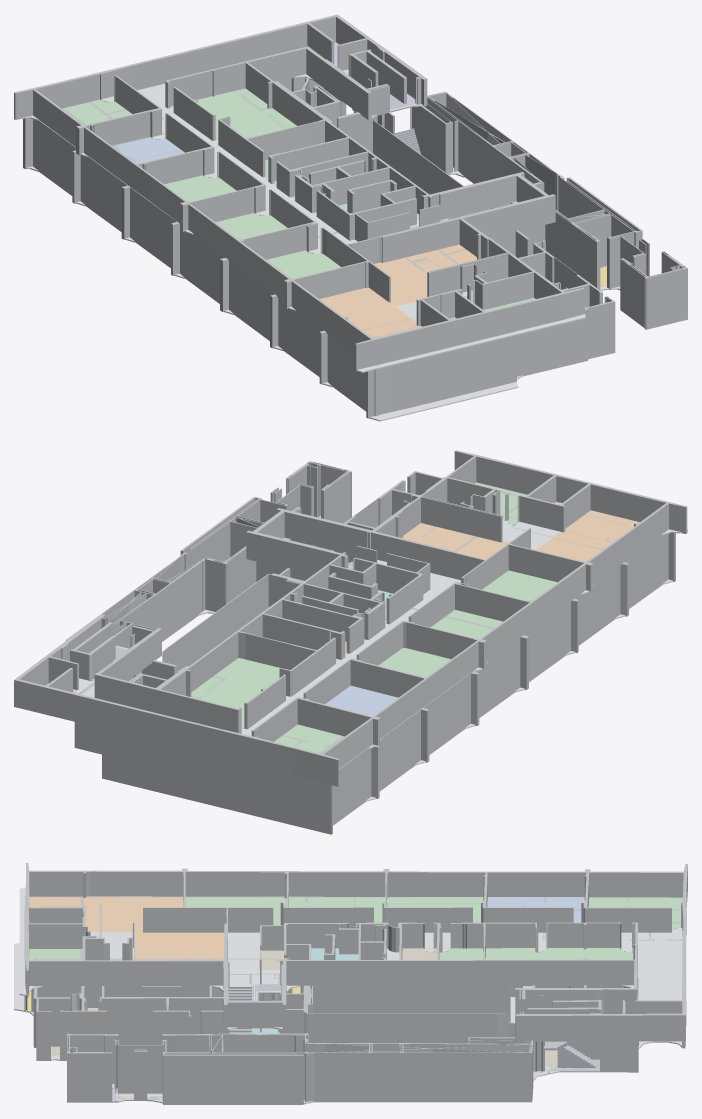
Rendered from BlocoA.glb.
The picture shows the model from 3 angles, top to bottom: view 1: azimuth 30°, elevation 25°; view 2: azimuth 150°, elevation 25°; view 3: azimuth 270°, elevation 25°; orthographic projection. The views are drawn at different scales.
Visible parts, largest first — view 1: A2 — Paredes, A0 — Paredes, A2 — Circulação, A2 — Of. Aprendizagem Montagem, Soldagem e Cravação, A2 — Lab. Desenvolvimento de Sistemas, A2 — Oficina de Baixa e Alta Fusão, A0 — Circulação, A2 — Lab. Manufatura Aditiva, A2 — Lab. Informática 10A, A2 — Lab. Modelagem 3D, A2 — Aulas Gerais 7A, A2 — Lab. Informática 5A (+1 smaller); view 2: A2 — Paredes, A0 — Paredes, A2 — Of. Aprendizagem Montagem, Soldagem e Cravação, A2 — Lab. Desenvolvimento de Sistemas, A2 — Circulação, A2 — Oficina de Baixa e Alta Fusão, A2 — Lab. Manufatura Aditiva, A2 — Aulas Gerais 7A, A2 — Lab. Informática 10A, A2 — Lab. Modelagem 3D, A2 — Lab. Informática 5A, A2 — Circulação.001; view 3: A2 — Paredes, A0 — Paredes, A2 — Circulação, A2 — Of. Aprendizagem Montagem, Soldagem e Cravação, A2 — Oficina de Baixa e Alta Fusão, A2 — Lab. Desenvolvimento de Sistemas, A0 — Circulação, A2 — Lab. Manufatura Aditiva, A2 — Lab. Modelagem 3D, A2 — Lab. Informática 5A, A2 — Aulas Gerais 7A, A2 — Lab. Informática 10A (+8 smaller).
Part boxes in pixels (<box>): A2 — Paredes: <box>14,14,584,371</box>; A0 — Paredes: <box>23,77,687,418</box>; A2 — Circulação: <box>20,69,585,372</box>; A2 — Of. Aprendizagem Montagem, Soldagem e Cravação: <box>319,287,421,338</box>; A2 — Lab. Desenvolvimento de Sistemas: <box>170,88,296,139</box>; A2 — Oficina de Baixa e Alta Fusão: <box>374,244,476,305</box>; A0 — Circulação: <box>26,166,620,421</box>; A2 — Lab. Manufatura Aditiva: <box>266,250,340,278</box>; A2 — Lab. Informática 10A: <box>164,175,236,201</box>; A2 — Lab. Modelagem 3D: <box>216,213,287,239</box>; A2 — Aulas Gerais 7A: <box>116,137,184,163</box>; A2 — Lab. Informática 5A: <box>64,99,131,124</box>; A2 — Paredes: <box>14,450,687,786</box>; A0 — Paredes: <box>66,461,675,834</box>; A2 — Of. Aprendizagem Montagem, Soldagem e Cravação: <box>534,510,639,561</box>; A2 — Lab. Desenvolvimento de Sistemas: <box>191,658,279,728</box>; A2 — Circulação: <box>74,529,687,748</box>; A2 — Oficina de Baixa e Alta Fusão: <box>402,523,534,559</box>; A2 — Lab. Manufatura Aditiva: <box>482,570,556,600</box>; A2 — Aulas Gerais 7A: <box>325,685,397,716</box>; A2 — Lab. Informática 10A: <box>378,648,450,677</box>; A2 — Lab. Modelagem 3D: <box>430,610,502,639</box>; A2 — Lab. Informática 5A: <box>274,724,342,753</box>; A2 — Circulação.001: <box>502,520,560,549</box>; A2 — Paredes: <box>25,863,687,1041</box>; A0 — Paredes: <box>24,893,685,1104</box>; A2 — Circulação: <box>19,887,682,1030</box>; A2 — Of. Aprendizagem Montagem, Soldagem e Cravação: <box>29,896,183,932</box>; A2 — Oficina de Baixa e Alta Fusão: <box>135,932,224,960</box>; A2 — Lab. Desenvolvimento de Sistemas: <box>485,948,633,959</box>; A0 — Circulação: <box>14,943,681,1103</box>; A2 — Lab. Manufatura Aditiva: <box>185,896,286,925</box>; A2 — Lab. Modelagem 3D: <box>288,896,385,922</box>; A2 — Lab. Informática 5A: <box>588,897,681,930</box>; A2 — Aulas Gerais 7A: <box>487,897,584,922</box>; A2 — Lab. Informática 10A: <box>387,897,483,922</box>.
Bounding box in the file's own units: 383 × 78.5 × 650.
